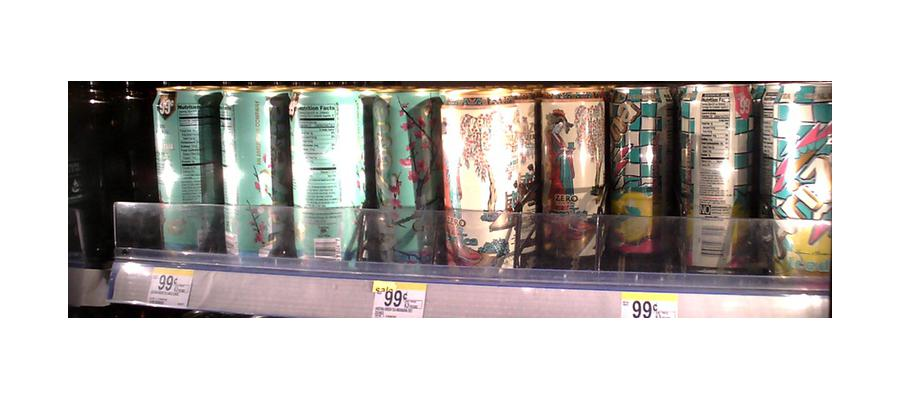bottle: (441, 95, 532, 277), (678, 82, 756, 271), (762, 76, 833, 281), (286, 89, 366, 269), (218, 85, 287, 259), (609, 81, 671, 269), (373, 93, 439, 264), (542, 92, 605, 268), (152, 85, 218, 253)
